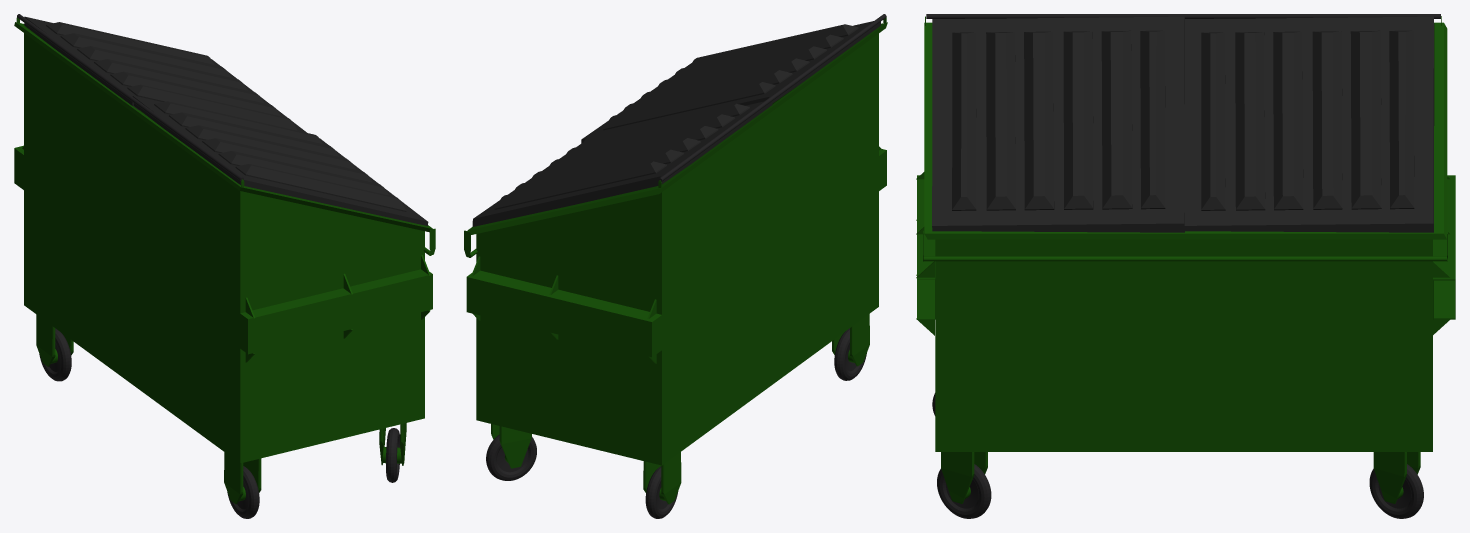
Rendered from Dumpster.fbx.
The picture shows the model from 3 angles, left to right: view 1: azimuth 30°, elevation 25°; view 2: azimuth 150°, elevation 25°; view 3: azimuth 270°, elevation 25°; orthographic projection. The views are drawn at different scales.
Visible parts, largest first — view 1: Dumpster, Lid, Lid.001; view 2: Dumpster, Lid.001, Lid; view 3: Dumpster, Lid, Lid.001.
Boxes of the visible parts, <box> form: Dumpster: <box>14,14,435,518</box>; Lid: <box>132,96,428,225</box>; Lid.001: <box>24,16,306,132</box>; Dumpster: <box>464,14,887,518</box>; Lid.001: <box>472,101,772,226</box>; Lid: <box>581,21,880,143</box>; Dumpster: <box>916,14,1455,518</box>; Lid: <box>932,16,1184,232</box>; Lid.001: <box>1184,16,1434,232</box>.
Bounding box in the file's own units: 211 × 368 × 439.
